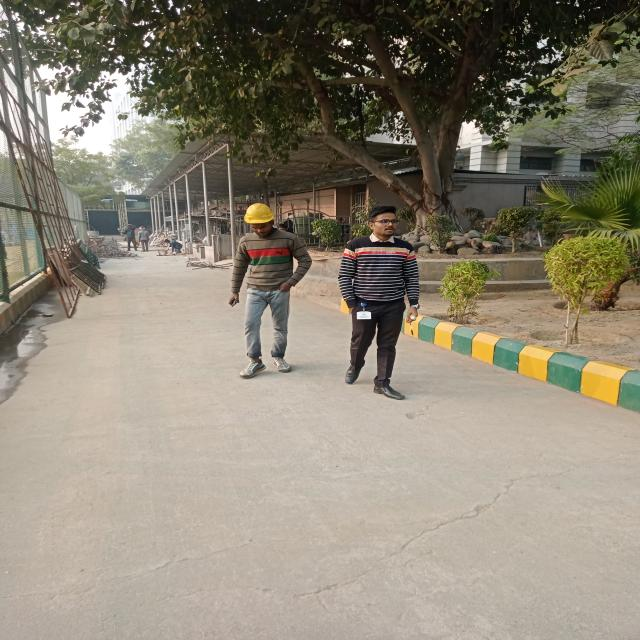no jacket: (226, 200, 313, 380)
unsafe: (338, 203, 418, 406), (117, 224, 139, 252), (136, 223, 152, 253)
